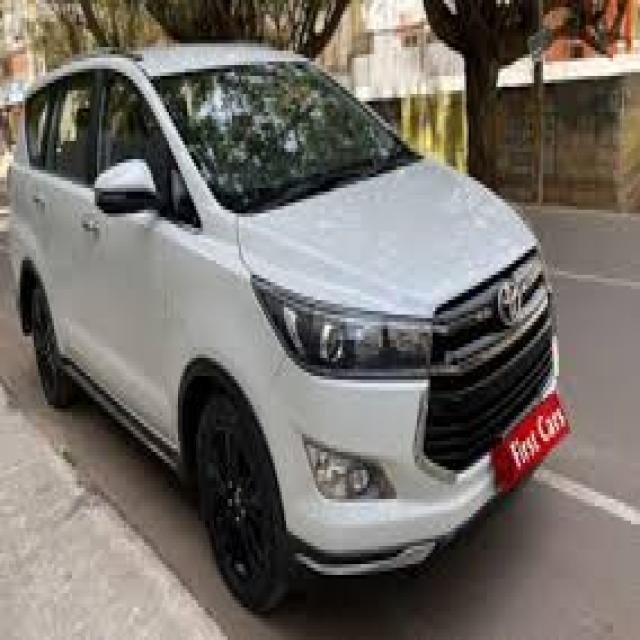light_vehicle: (7, 44, 560, 613)
